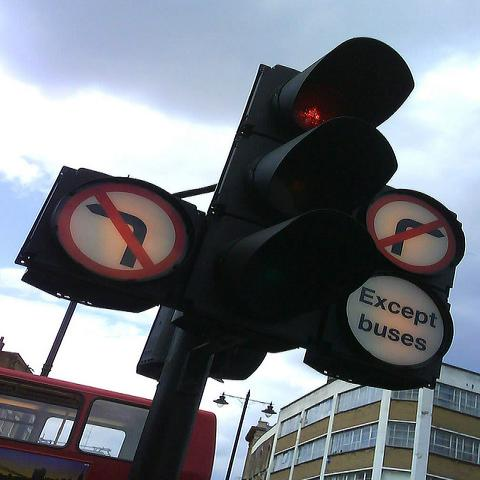bus: (1, 366, 218, 479)
